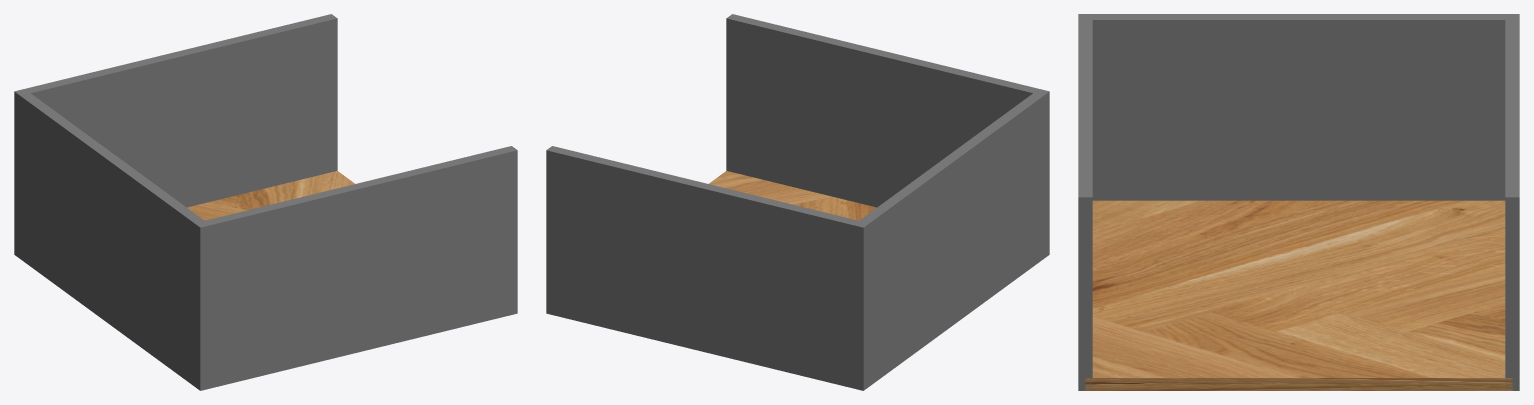
Rendered from room_test.gltf.
3 views of the same model, side by side, from view 1: azimuth 30°, elevation 25°; view 2: azimuth 150°, elevation 25°; view 3: azimuth 270°, elevation 25° (orthographic). The views are drawn at different scales.
Parts seen in each view (by area): view 1: Cube.003, Cube.001, Cube.002, Cube; view 2: Cube.001, Cube.003, Cube.002, Cube; view 3: Cube, Cube.002, Cube.001, Cube.003.
Part boxes in pixels (<box>): Cube.003: <box>200,146,517,389</box>; Cube.001: <box>19,14,337,207</box>; Cube.002: <box>14,90,210,390</box>; Cube: <box>187,171,354,220</box>; Cube.001: <box>546,146,863,389</box>; Cube.003: <box>726,14,1044,207</box>; Cube.002: <box>854,89,1049,390</box>; Cube: <box>709,171,876,220</box>; Cube: <box>1085,200,1512,390</box>; Cube.002: <box>1078,14,1519,200</box>; Cube.001: <box>1505,17,1519,390</box>; Cube.003: <box>1078,18,1092,390</box>.
Bounding box in the file's own units: 6.1 × 3 × 6.2.
Materials: 4 (1 with a texture image).
